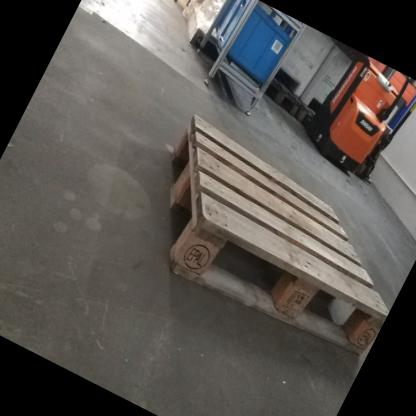BoxFace: (164, 109, 391, 362)
